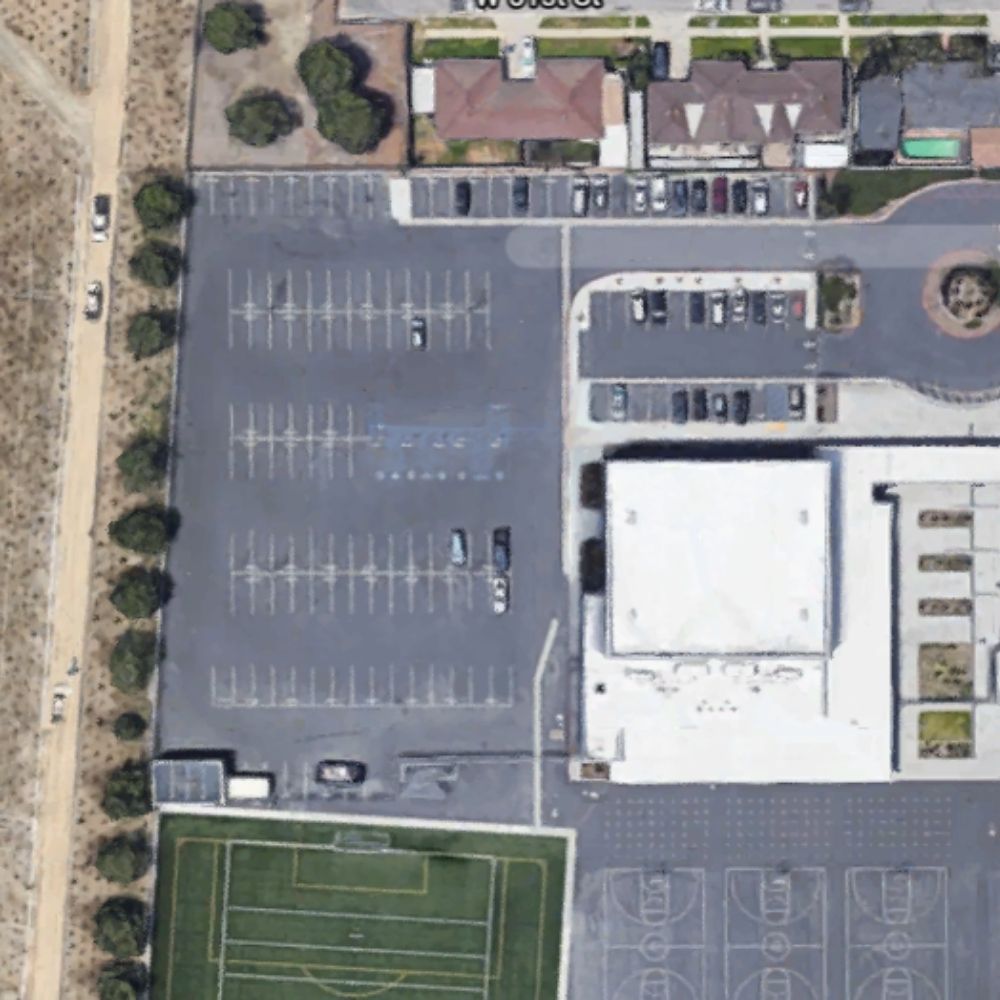parking: (150, 170, 815, 835)
